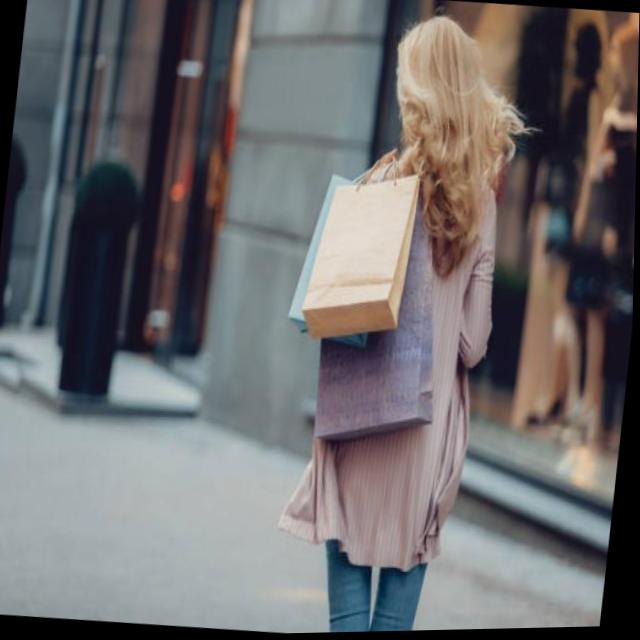no helmet: (357, 21, 527, 265)
